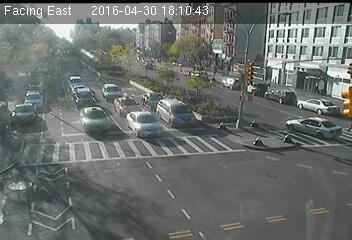neg: (15, 46, 51, 94), (134, 83, 169, 130), (102, 58, 132, 98), (44, 111, 74, 150), (1, 167, 29, 204), (292, 169, 319, 206), (212, 166, 238, 200), (97, 148, 122, 182), (47, 186, 72, 220), (296, 26, 319, 58), (165, 27, 188, 58), (297, 65, 320, 95), (156, 164, 178, 194), (198, 85, 220, 113), (266, 120, 284, 145), (247, 132, 263, 153), (244, 64, 256, 79), (263, 25, 273, 39)
